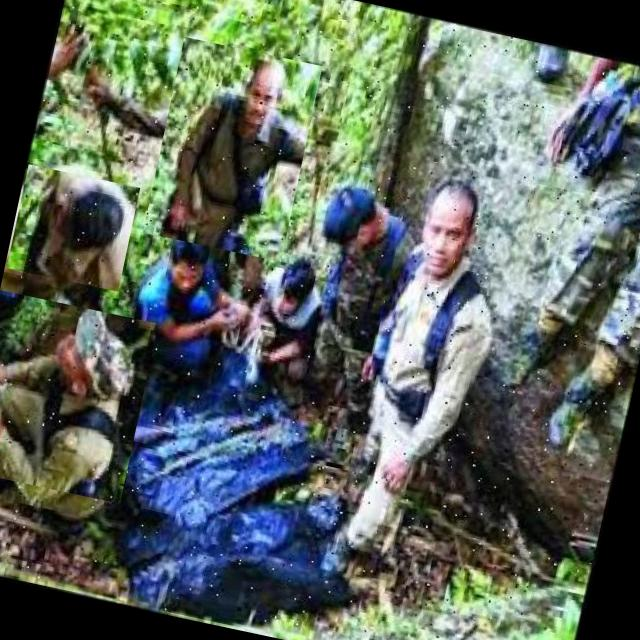poacher: (94, 194, 245, 366), (222, 208, 336, 383)
ranger: (281, 135, 531, 635), (150, 29, 340, 210), (0, 288, 134, 521)
